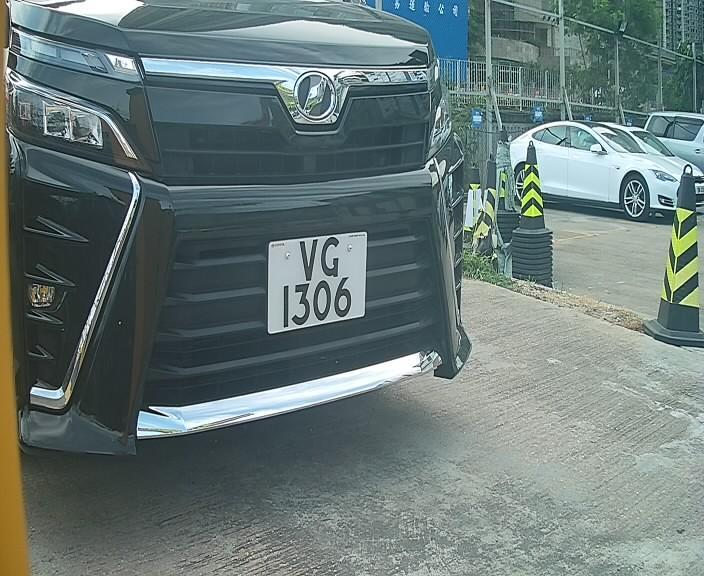privatecar: (4, 13, 519, 453)
